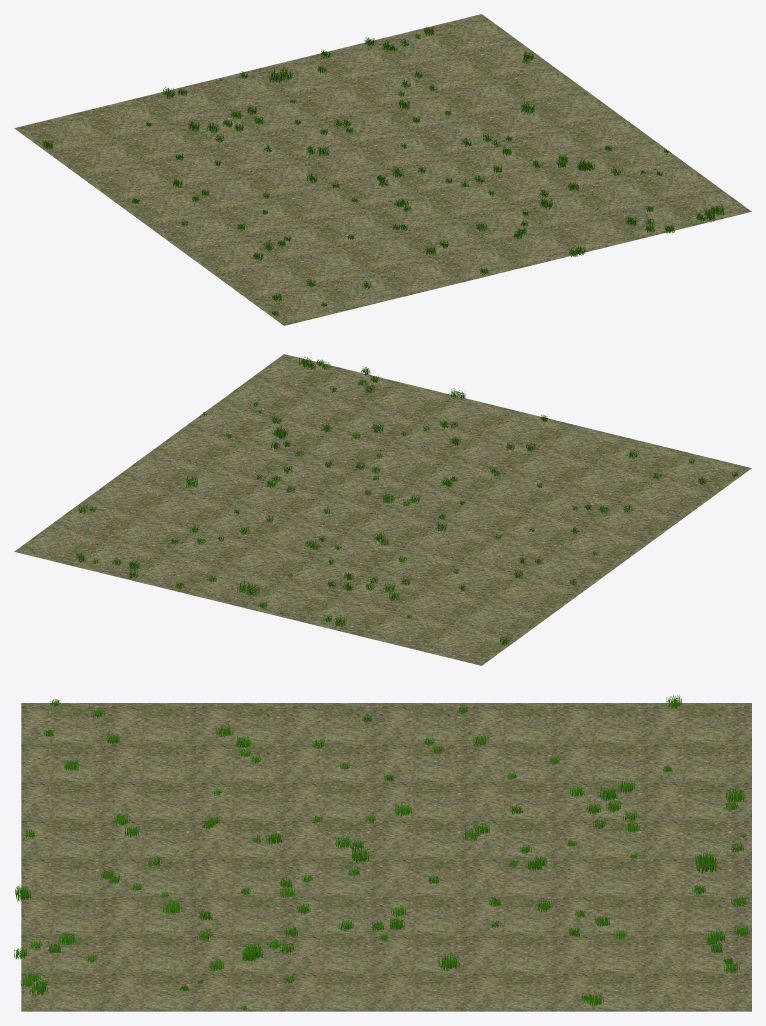
3 views of the same model, one above another, from view 1: azimuth 30°, elevation 25°; view 2: azimuth 150°, elevation 25°; view 3: azimuth 270°, elevation 25° (orthographic). The views are drawn at different scales.
Parts seen in each view (by area): view 1: Плоскость.001 preview; view 2: Плоскость.001 preview; view 3: Плоскость.001 preview.
Boxes of the visible parts, x1,y1,x2,y2 form: Плоскость.001 preview: [14, 14, 751, 325]; Плоскость.001 preview: [14, 354, 751, 665]; Плоскость.001 preview: [21, 703, 751, 1011].
Bounding box in the file's own units: 10.76 × 0.3065 × 10.87.
2 materials, 1 textured.
